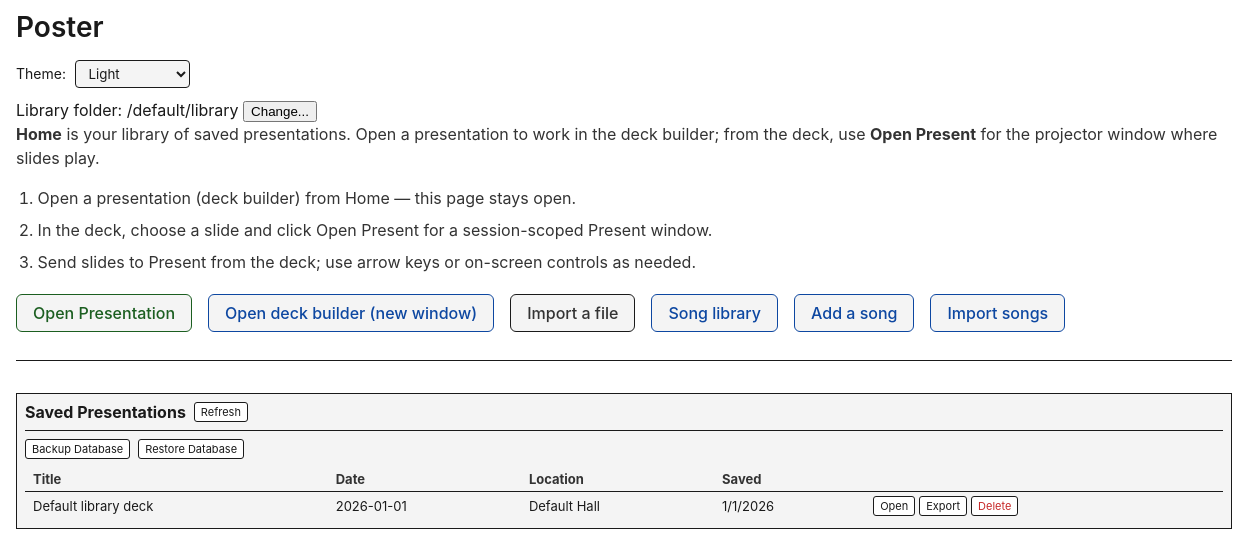
Home Change... library root › native Change... posts the chosen root and refreshes the Home library in place
Check: the text "Library folder: /default/library" is shown, box [16,100,239,120]
Check: the text "Default library deck" is shown, box [25,492,328,520]
Click the button "Change...".
click(280, 112)  # box [243,101,317,122]
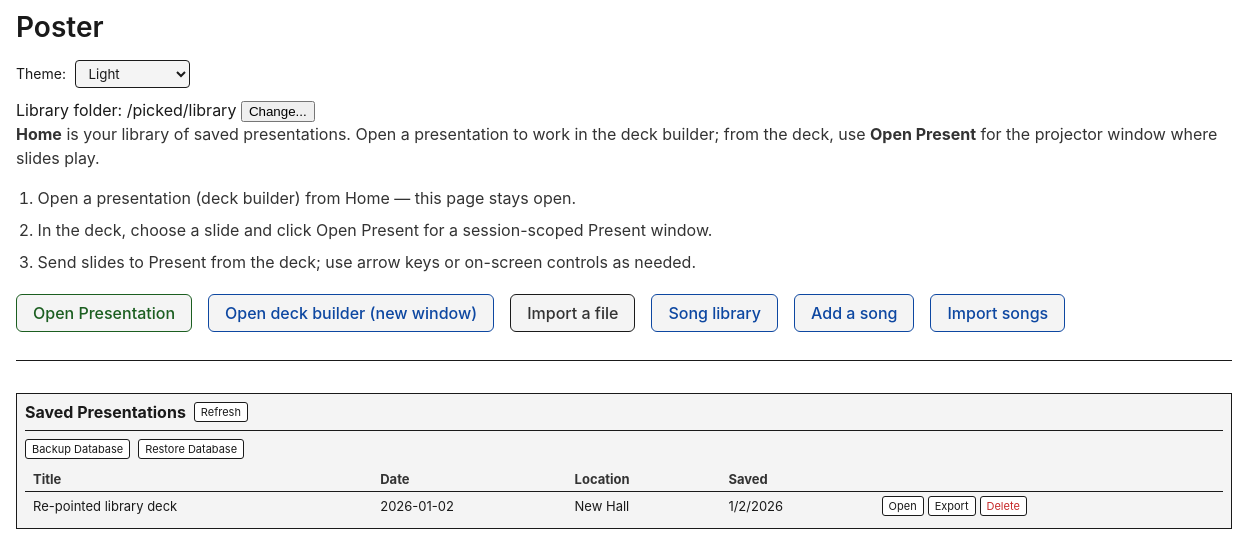
Check: the text "Library folder: /picked/library" is shown, box [16,100,236,120]
Check: the text "Re-pointed library deck" is shown, box [25,492,372,520]
Check: the text "Default library deck" is gone
